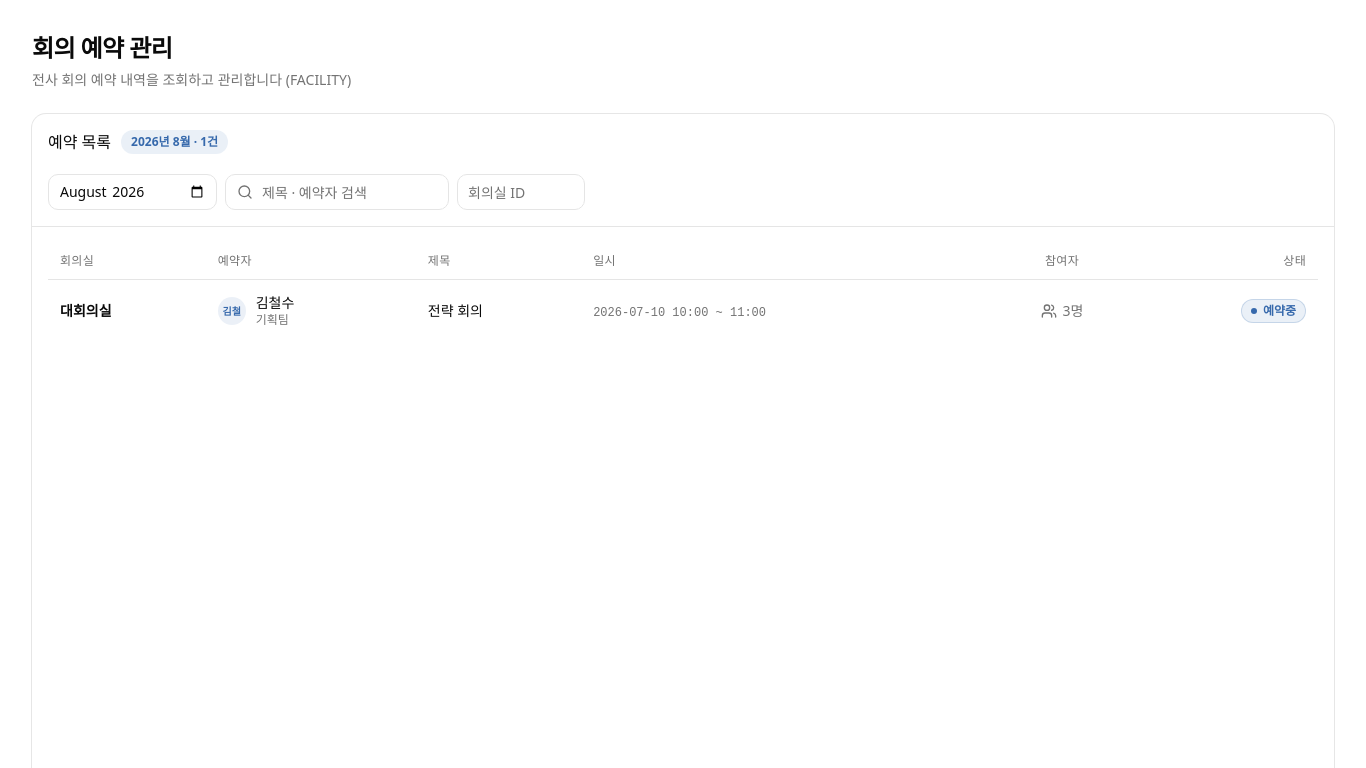
Test: MeetingReservationManagementPage (F810) - 행 클릭 → 인라인 상세 패널 › 행 클릭 시 상세 페이지로 이동하지 않고 하단에 인라인 상세 패널이 표시된다(FACILITY 조회 전용)
The width and height of the screenshot is (1366, 768).
Click the button "대회의실 김철 김철수 기획팀 전략 회의 2026-07-10 10:00 ~ 11:00 3명 예약중" at [683, 310], box [48, 280, 1318, 342]
(page scrolled)
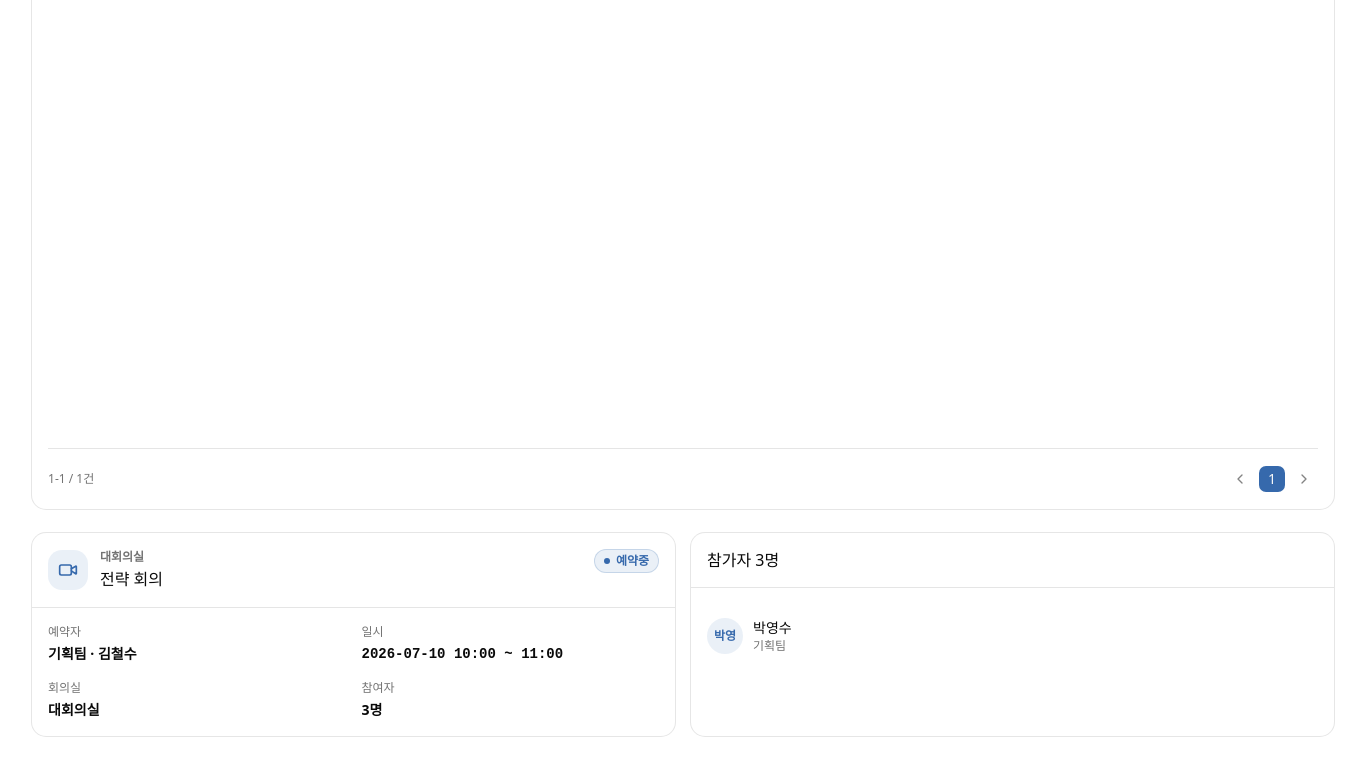
Now the text "기획팀 · 김철수" is shown, box [48, 644, 137, 663]
